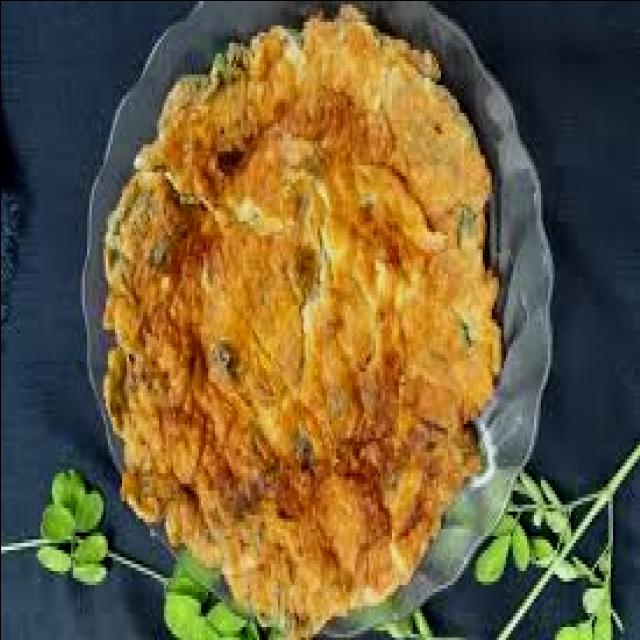telur dadar: (95, 0, 503, 640)
